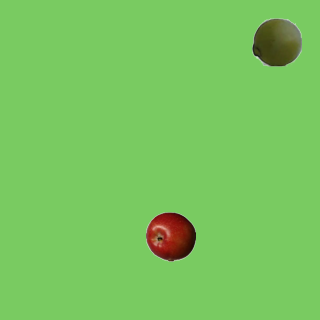Apple Braeburn: (145, 211, 195, 261)
Grape White 4: (251, 16, 301, 66)
